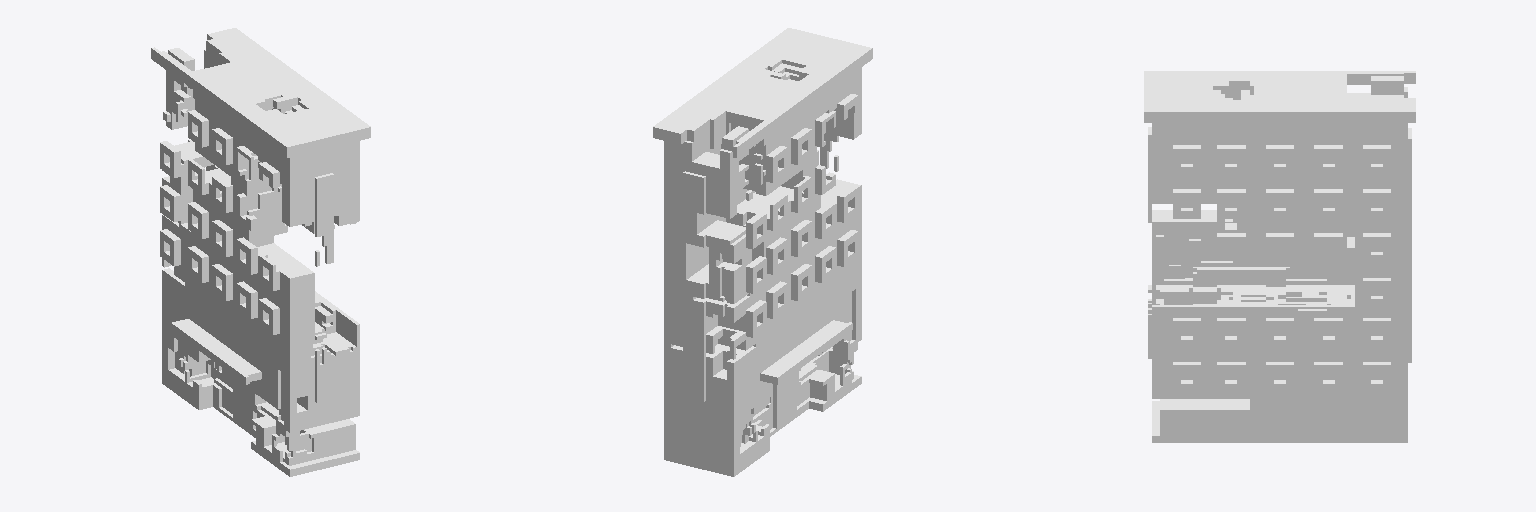
File: rebuild_3.2.obj
The picture shows the model from 3 angles: view 1: azimuth 30°, elevation 25°; view 2: azimuth 150°, elevation 25°; view 3: azimuth 270°, elevation 25°; orthographic projection.
Size of the model in its own units: 27 by 91 by 67.